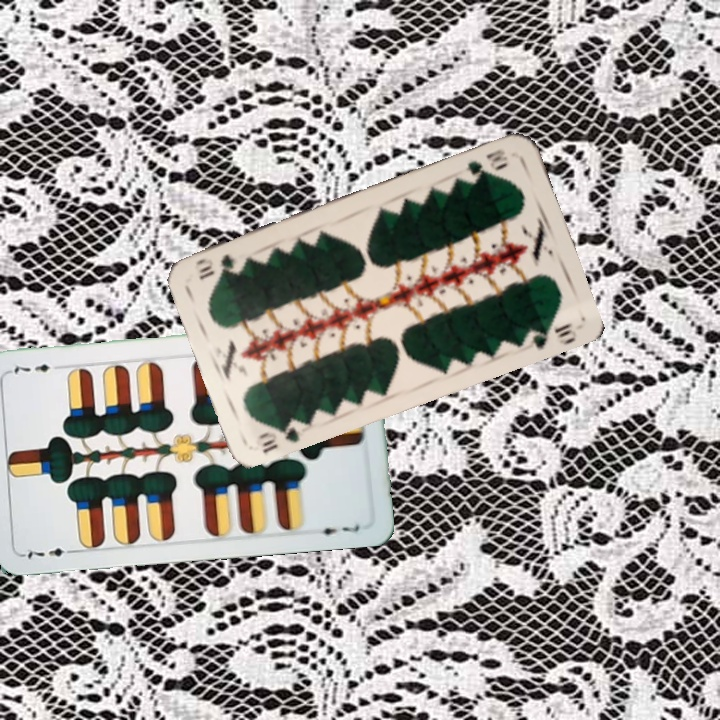E7: (20, 544, 79, 561)
G10: (255, 416, 306, 457), (461, 145, 511, 179)
